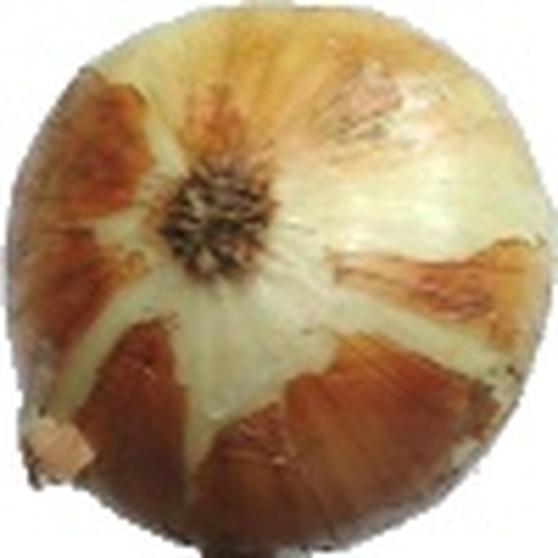onion: (1, 2, 558, 555)
